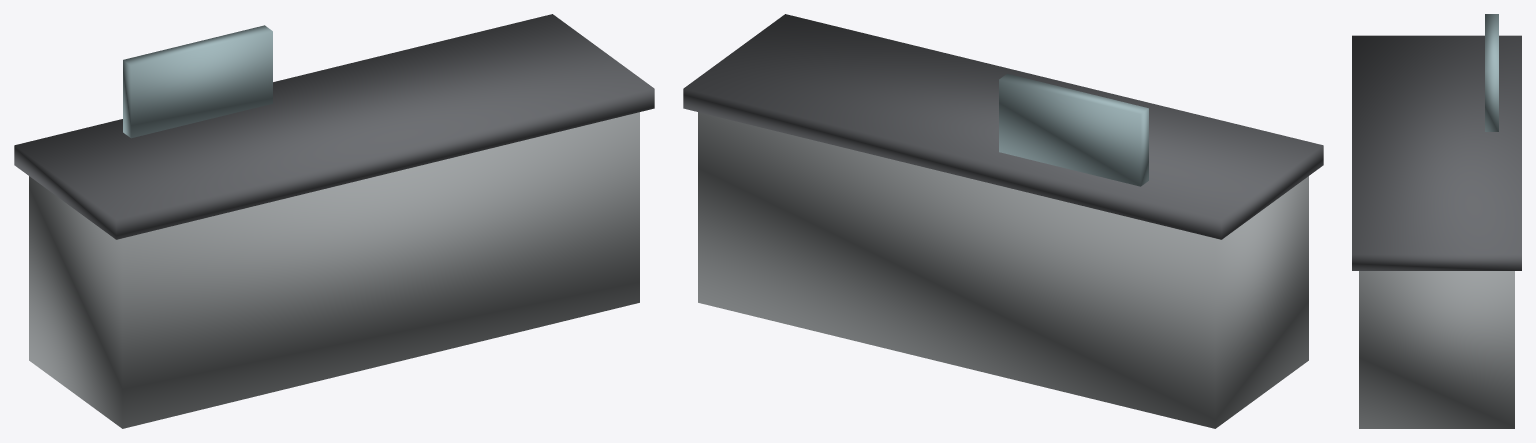
The model's file is police_booking_desk__wide.glb.
The picture shows the model from 3 angles, left to right: view 1: azimuth 30°, elevation 25°; view 2: azimuth 150°, elevation 25°; view 3: azimuth 270°, elevation 25°; orthographic projection. The views are drawn at different scales.
Parts seen in each view (by area): view 1: world; view 2: world; view 3: world.
Boxes of the visible parts, x1,y1,x2,y2 form: world: [14, 14, 654, 428]; world: [683, 14, 1323, 428]; world: [1352, 14, 1521, 428].
Size of the model in its own units: 2.26 by 1.15 by 0.74.
